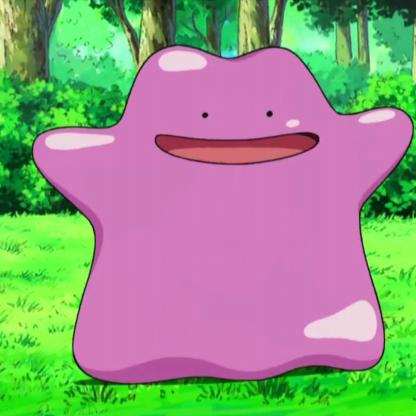Ditto: (30, 46, 416, 386)
